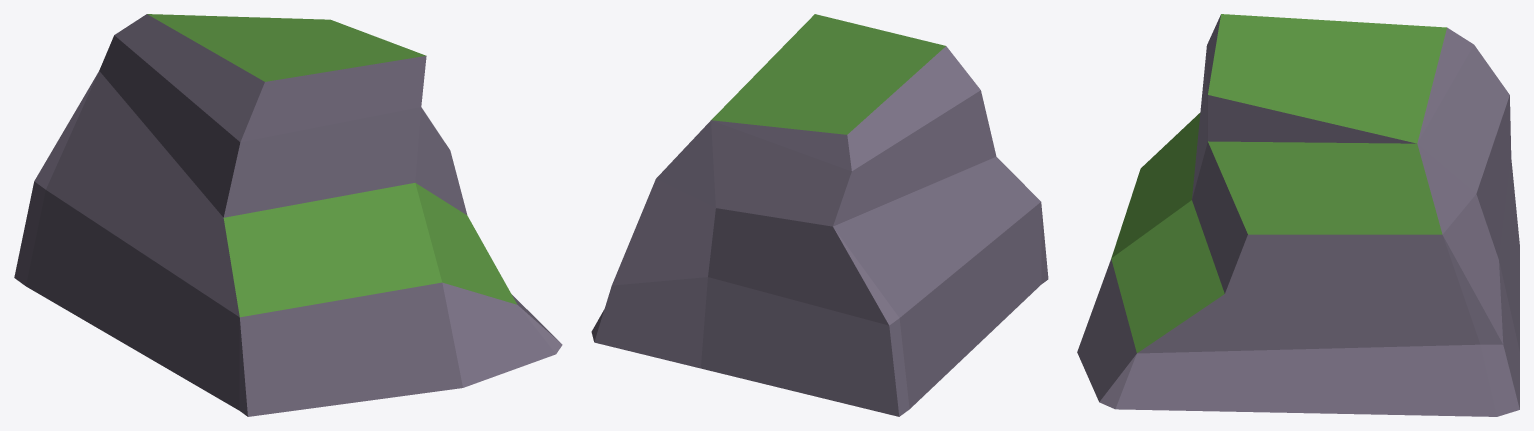
The model's file is Rock_Moss_3.glb.
3 views of the same model, side by side, from view 1: azimuth 30°, elevation 25°; view 2: azimuth 150°, elevation 25°; view 3: azimuth 270°, elevation 25° (orthographic). The views are drawn at different scales.
Visible parts, largest first — view 1: Rock_Moss_3_Cube.020; view 2: Rock_Moss_3_Cube.020; view 3: Rock_Moss_3_Cube.020.
Boxes of the visible parts, box(x1,y1,x2,y2) form: Rock_Moss_3_Cube.020: box(14, 14, 562, 416); Rock_Moss_3_Cube.020: box(591, 14, 1048, 416); Rock_Moss_3_Cube.020: box(1077, 14, 1519, 416).
Bounding box in the file's own units: 0.7384 × 0.5567 × 0.8026.
